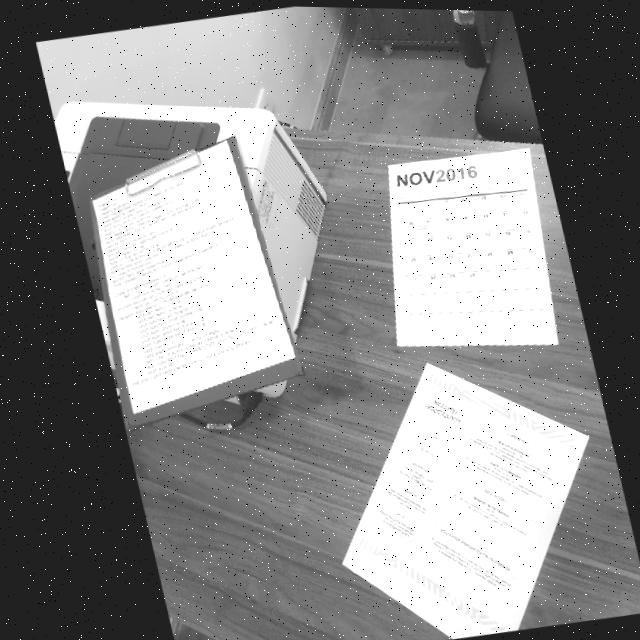document: (343, 364, 589, 639), (93, 140, 296, 414), (389, 149, 558, 346)
